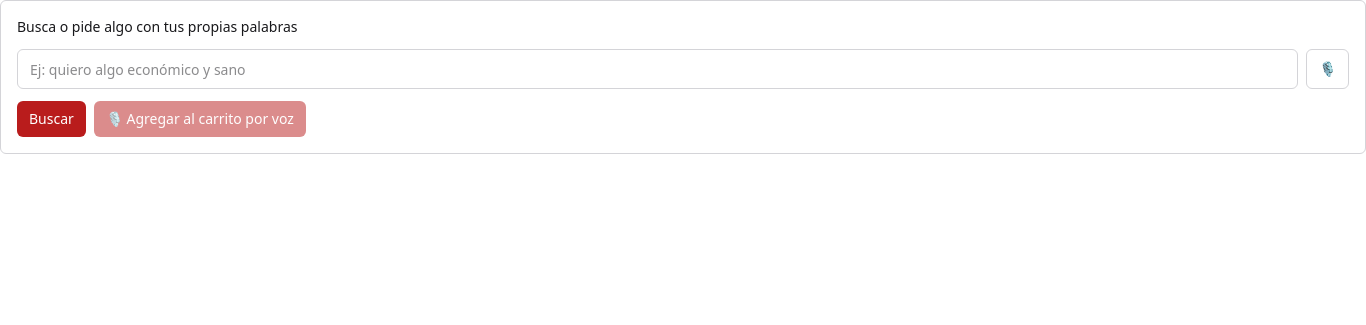
BusquedaPorVoz · texto (HU-06) › funciona escribiendo texto, sin usar el micrófono
Type "quiero una pizza" into the field labelled "Busca o pide algo con tus propias palabras" at (658, 69), box [17,49,1298,89]
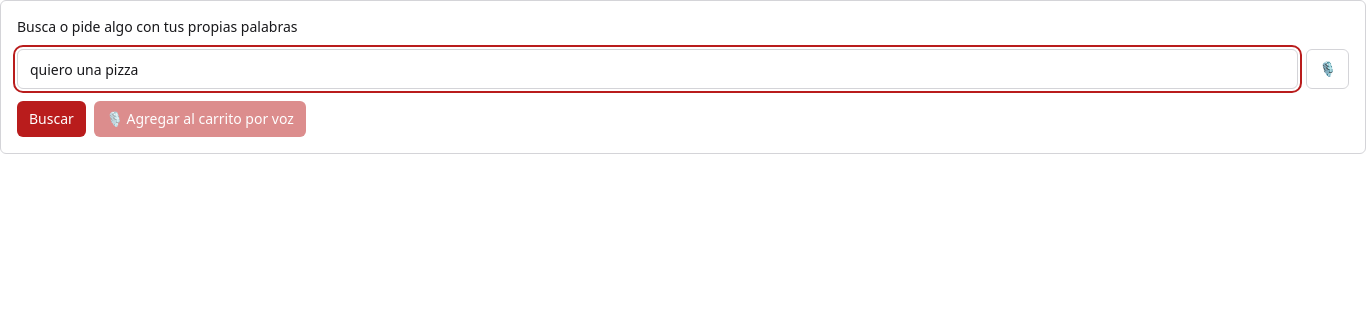
Click the button "Buscar" at (51, 119), box [17,101,86,137]
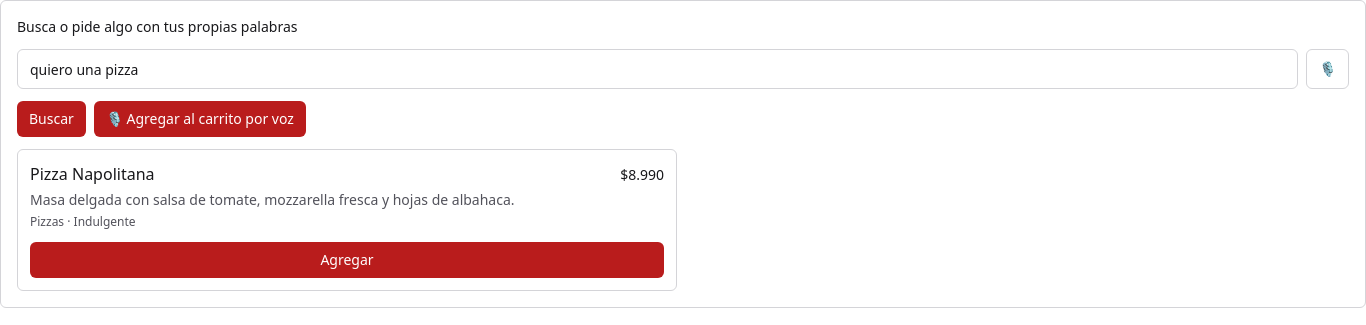
Result: the text "Pizza Napolitana" is shown at [30,162,154,186]
